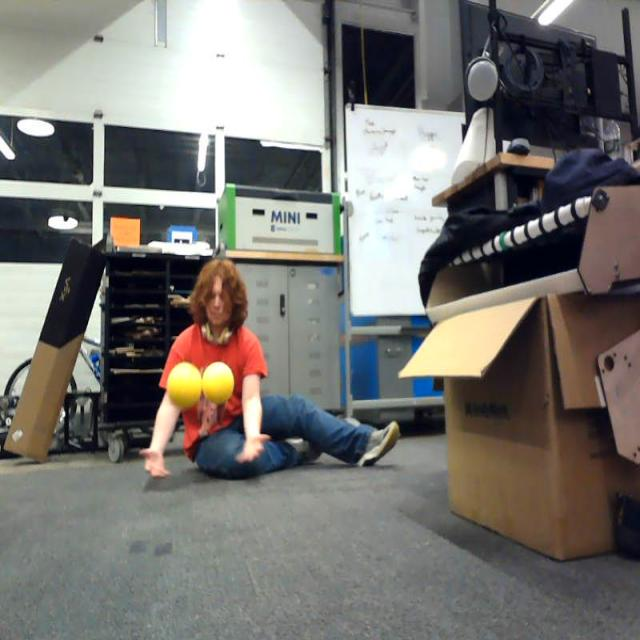Fuel: (168, 362, 202, 408), (202, 361, 235, 403)
